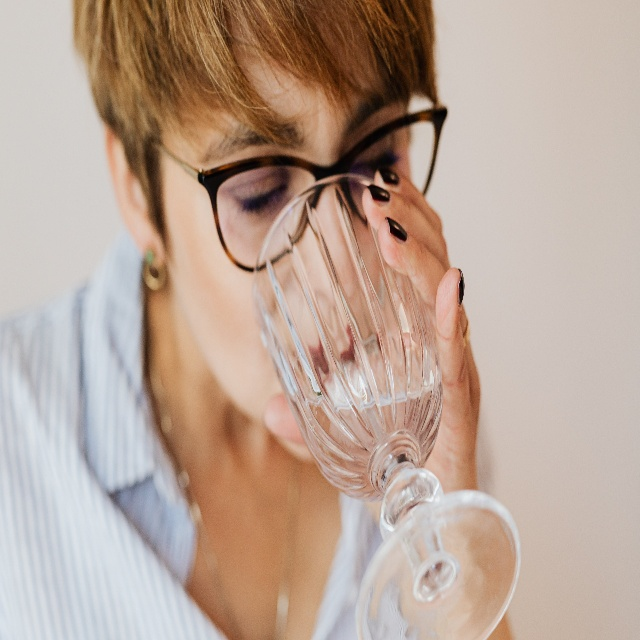Gafas: (151, 104, 446, 263)
Sin_guantes: (264, 181, 480, 486)
